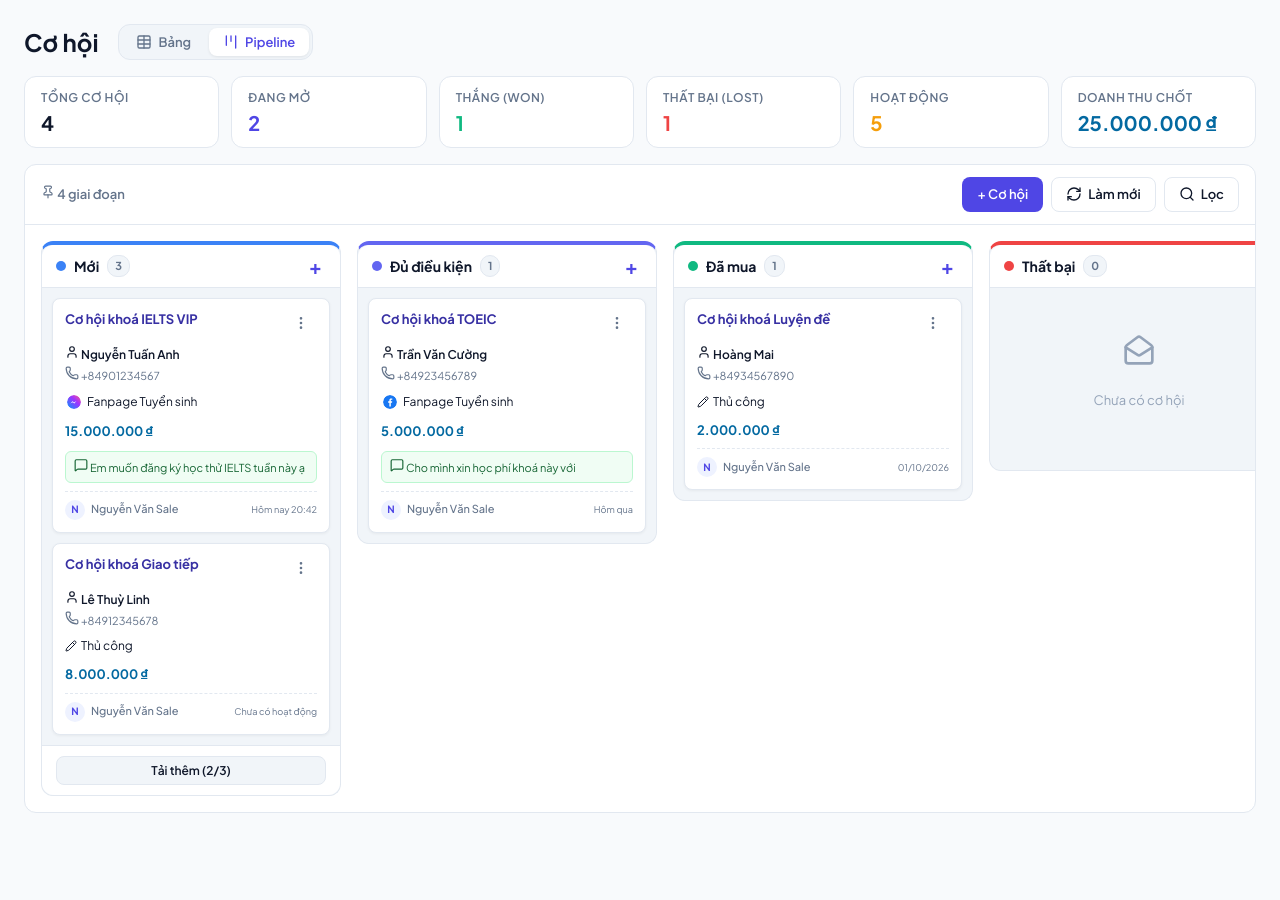
Test: AC fd9216b3 (c)(d) — Opportunities Pipeline Kanban › AC fd9216b3 (c) — Pipeline Columns, Cards, Drag & Drop, Snippet, Load More › tải thêm theo cột qua POST pipeline/{stageId}
# Click Load More
Click the button with test id "btn-load-more-stg-1". click: (191, 770)
box: [56,756,326,785]
(page scrolled)
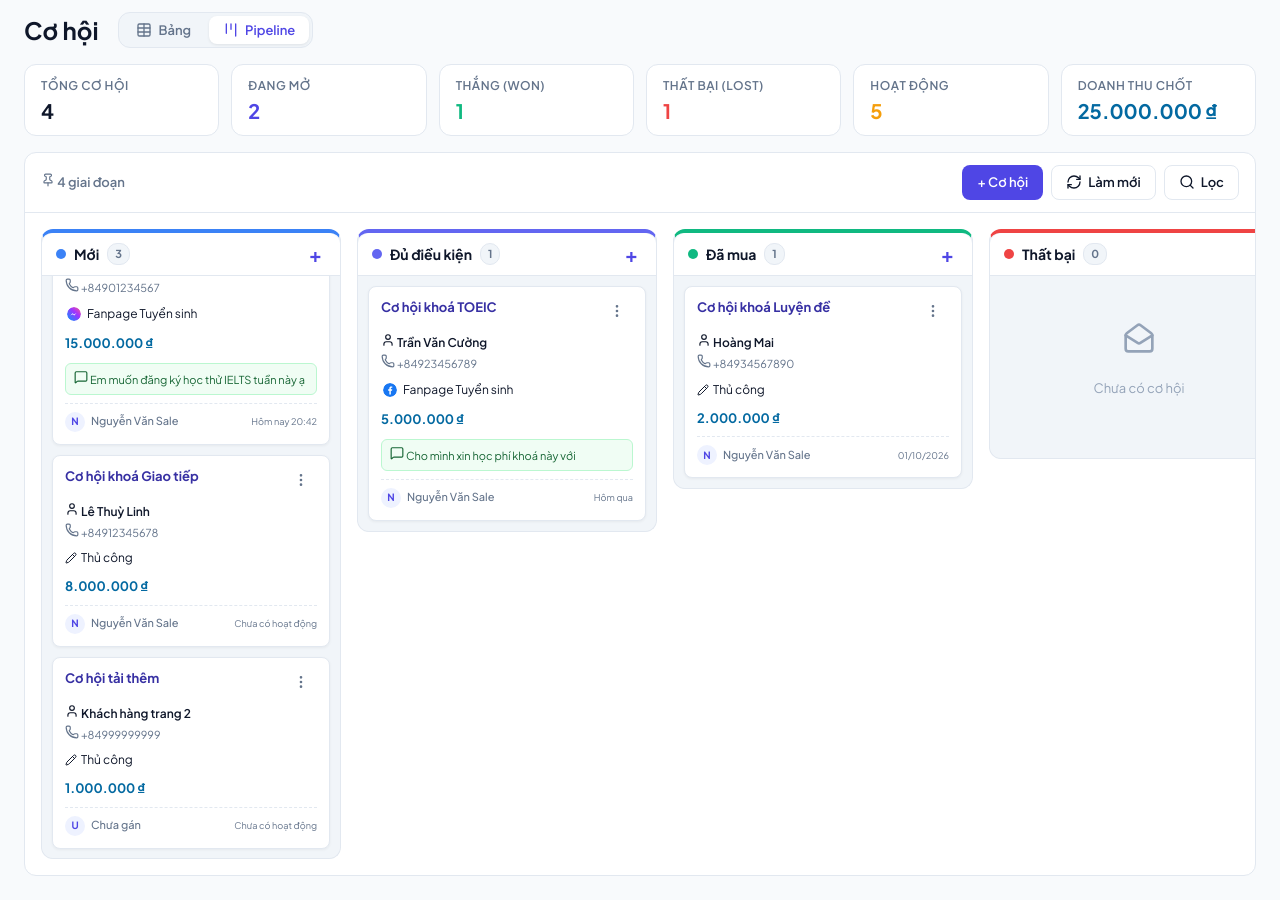
expect the element with test id "opp-card-opp-extra-1" is shown: met, box [52,657,330,849]
expect the button with test id "btn-load-more-stg-1" is gone: met
